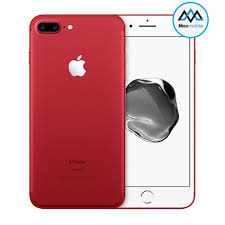iphone: (25, 12, 128, 209)
iphone7: (23, 10, 197, 211)
